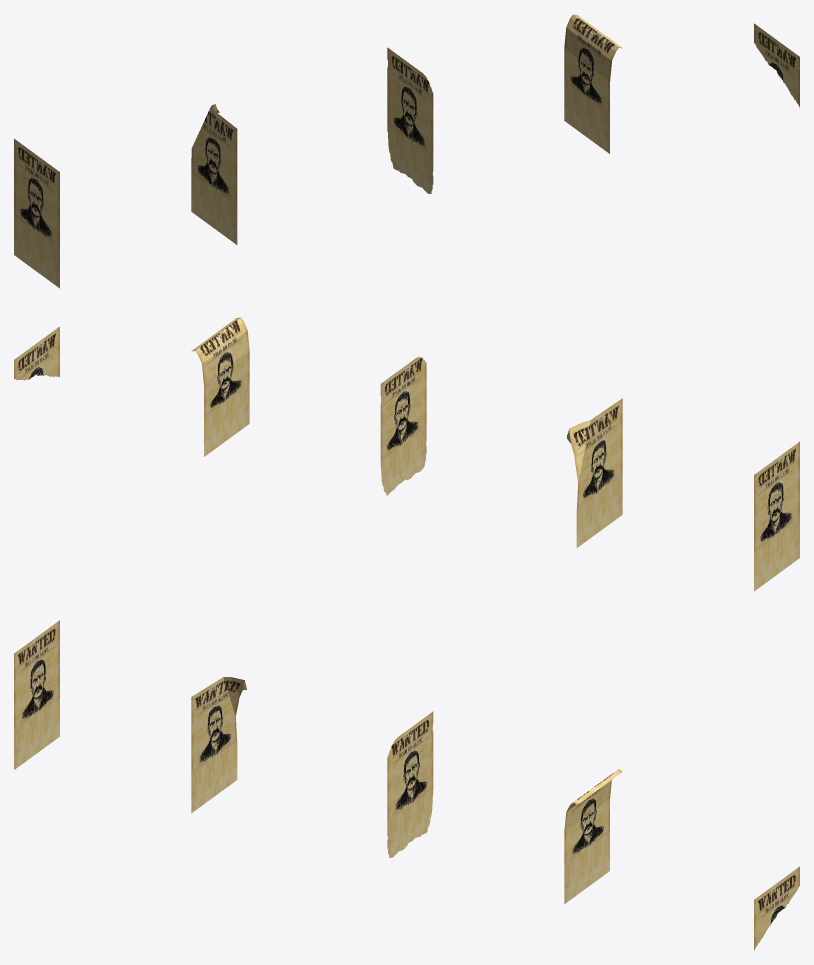
File: WantedPosters.fbx
The picture shows the model from 3 angles, top to bottom: view 1: azimuth 30°, elevation 25°; view 2: azimuth 150°, elevation 25°; view 3: azimuth 330°, elevation 25°; orthographic projection.
Parts seen in each view (by area): view 1: WantedPosters_01, WantedPosters_04, WantedPosters_03, WantedPosters_02, WantedPosters_05; view 2: WantedPosters_02, WantedPosters_01, WantedPosters_04, WantedPosters_03, WantedPosters_05; view 3: WantedPosters_02, WantedPosters_01, WantedPosters_03, WantedPosters_04, WantedPosters_05.
Boxes of the visible parts, left/top/right/bottom form: WantedPosters_01: left=14, top=138, right=59, bottom=288; WantedPosters_04: left=564, top=14, right=622, bottom=153; WantedPosters_03: left=387, top=47, right=433, bottom=193; WantedPosters_02: left=191, top=104, right=237, bottom=244; WantedPosters_05: left=754, top=23, right=799, bottom=107; WantedPosters_02: left=567, top=398, right=622, bottom=547; WantedPosters_01: left=754, top=441, right=799, bottom=591; WantedPosters_04: left=191, top=317, right=249, bottom=456; WantedPosters_03: left=380, top=356, right=426, bottom=495; WantedPosters_05: left=14, top=326, right=59, bottom=380; WantedPosters_02: left=191, top=677, right=246, bottom=813; WantedPosters_01: left=14, top=620, right=59, bottom=769; WantedPosters_03: left=387, top=711, right=433, bottom=857; WantedPosters_04: left=564, top=769, right=622, bottom=903; WantedPosters_05: left=754, top=866, right=799, bottom=950.
Bounding box in the file's own units: 4.19 × 0.63 × 0.4491.
5 materials, 5 textured.
